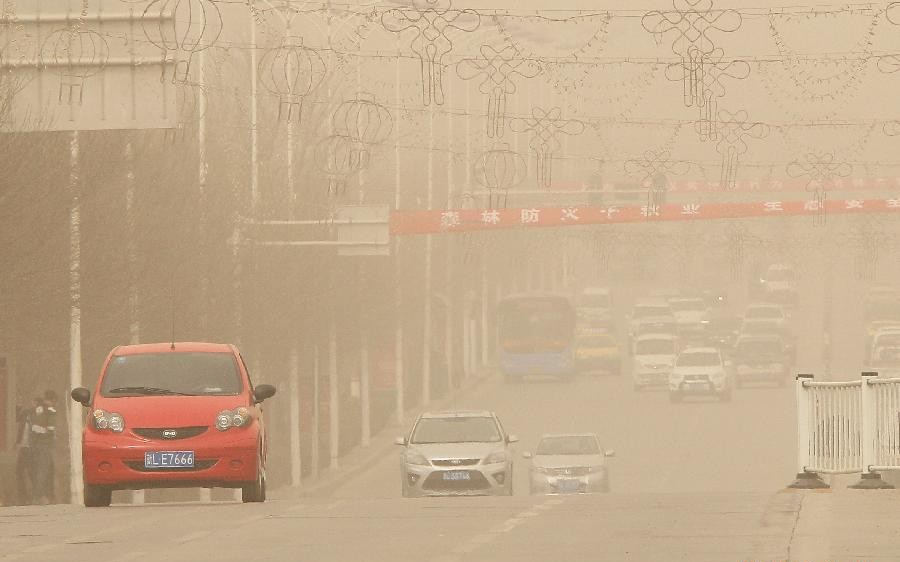bus: (496, 292, 578, 381)
car: (76, 340, 277, 507), (397, 408, 517, 494), (526, 430, 611, 492), (667, 347, 731, 402), (731, 332, 788, 388), (570, 330, 622, 374), (634, 334, 676, 388), (628, 304, 680, 338), (759, 265, 802, 306), (669, 298, 711, 333), (736, 305, 790, 331), (580, 288, 613, 323), (697, 274, 729, 305)
person: (13, 392, 41, 504), (31, 385, 55, 502)
